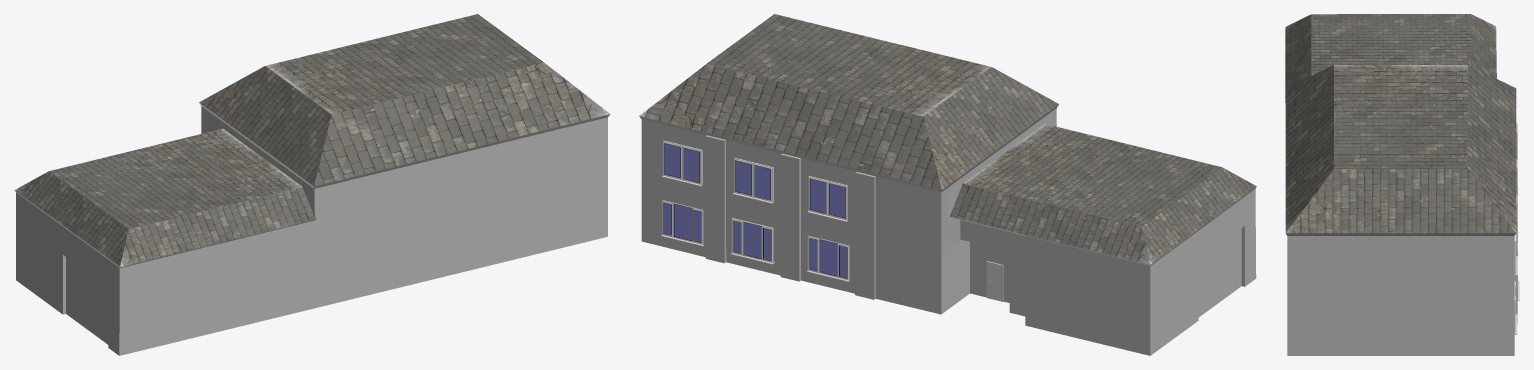
Rendered from house build 3.fbx.
3 renders of one model, left to right at view 1: azimuth 30°, elevation 25°; view 2: azimuth 150°, elevation 25°; view 3: azimuth 270°, elevation 25°, orthographic. The views are drawn at different scales.
Parts seen in each view (by area): view 1: Cube; view 2: Cube, Window.001, Window.002, Window, Window.003, Window.005, Window.004, Door; view 3: Cube.
Boxes of the visible parts, <box> form: Cube: <box>14,14,610,355</box>; Cube: <box>639,14,1256,355</box>; Window.001: <box>730,218,774,264</box>; Window.002: <box>806,235,849,281</box>; Window: <box>661,200,703,246</box>; Window.003: <box>662,140,702,186</box>; Window.005: <box>807,176,848,221</box>; Window.004: <box>733,158,773,203</box>; Door: <box>988,263,1001,301</box>; Cube: <box>1285,14,1517,355</box>.
Bounding box in the file's own units: 3016 × 980 × 1241.
